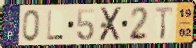0: (21, 8, 42, 43)
2: (129, 6, 151, 42)
5: (76, 7, 96, 42)
L: (46, 9, 65, 42)
T: (154, 6, 175, 41)
X: (97, 6, 124, 43)
